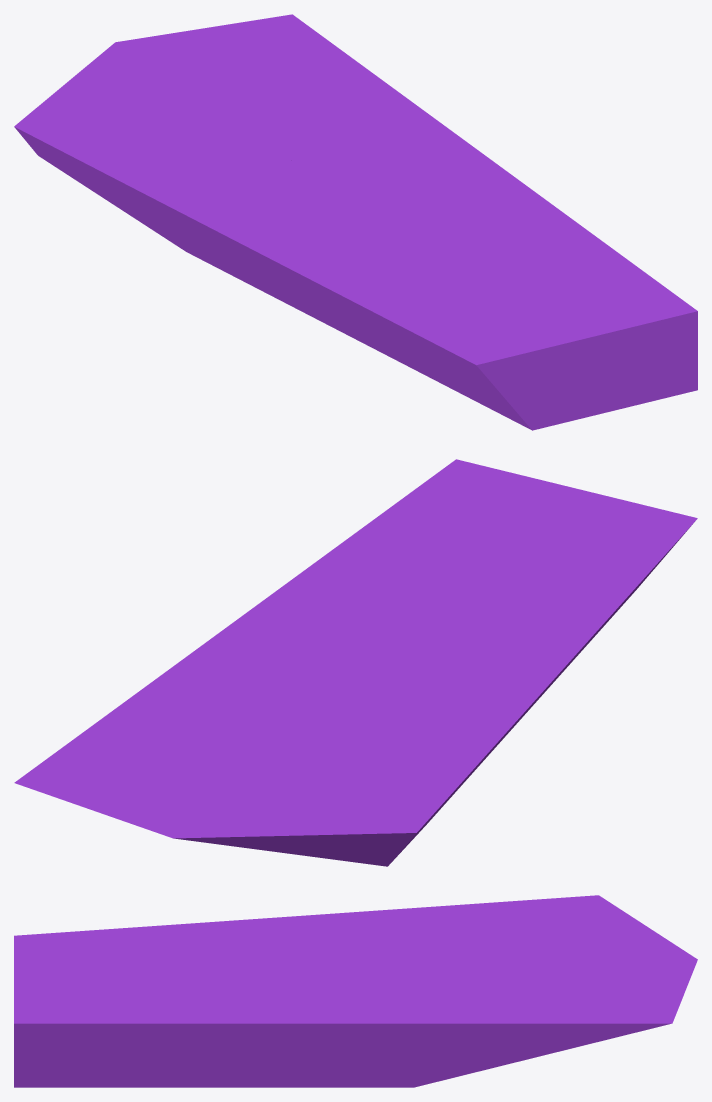
File: Glass_106_6_chunks.fbx
3 views of the same model, one above another, from view 1: azimuth 30°, elevation 25°; view 2: azimuth 150°, elevation 25°; view 3: azimuth 270°, elevation 25° (orthographic). The views are drawn at different scales.
Visible parts, largest first — view 1: Glass_106_6_0, Glass_106_6_9, Glass_106_6_5, Glass_106_6_2, Glass_106_6_8, Glass_106_6_1, Glass_106_6_4, Glass_106_6_6; view 2: Glass_106_6_0, Glass_106_6_9, Glass_106_6_5, Glass_106_6_8, Glass_106_6_1, Glass_106_6_2, Glass_106_6_4, Glass_106_6_6, Glass_106_6_3; view 3: Glass_106_6_0, Glass_106_6_8, Glass_106_6_9, Glass_106_6_5, Glass_106_6_1, Glass_106_6_2, Glass_106_6_4, Glass_106_6_6, Glass_106_6_3.
Boxes of the visible parts, left/top/right/bottom form: Glass_106_6_0: left=278, top=188, right=697, bottom=430; Glass_106_6_9: left=106, top=14, right=405, bottom=124; Glass_106_6_5: left=14, top=50, right=232, bottom=243; Glass_106_6_2: left=123, top=180, right=305, bottom=313; Glass_106_6_8: left=326, top=97, right=529, bottom=190; Glass_106_6_1: left=294, top=162, right=462, bottom=242; Glass_106_6_4: left=137, top=132, right=296, bottom=201; Glass_106_6_6: left=189, top=99, right=336, bottom=168; Glass_106_6_0: left=273, top=459, right=697, bottom=737; Glass_106_6_9: left=14, top=692, right=259, bottom=841; Glass_106_6_5: left=195, top=743, right=482, bottom=866; Glass_106_6_8: left=138, top=593, right=335, bottom=709; Glass_106_6_1: left=315, top=618, right=520, bottom=701; Glass_106_6_2: left=425, top=653, right=576, bottom=825; Glass_106_6_4: left=311, top=679, right=470, bottom=754; Glass_106_6_6: left=242, top=681, right=342, bottom=777; Glass_106_6_3: left=295, top=697, right=360, bottom=745; Glass_106_6_0: left=14, top=918, right=309, bottom=1087; Glass_106_6_8: left=287, top=974, right=488, bottom=1087; Glass_106_6_9: left=475, top=953, right=697, bottom=1072; Glass_106_6_5: left=459, top=895, right=688, bottom=960; Glass_106_6_1: left=289, top=933, right=425, bottom=1002; Glass_106_6_2: left=265, top=904, right=460, bottom=948; Glass_106_6_4: left=359, top=910, right=501, bottom=960; Glass_106_6_6: left=398, top=958, right=572, bottom=988; Glass_106_6_3: left=412, top=957, right=510, bottom=964.
Bounding box in the file's own units: 382 × 89.14 × 860.
